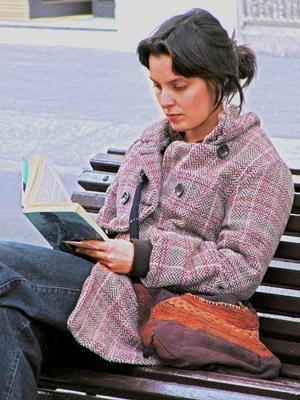person: (1, 9, 296, 400)
